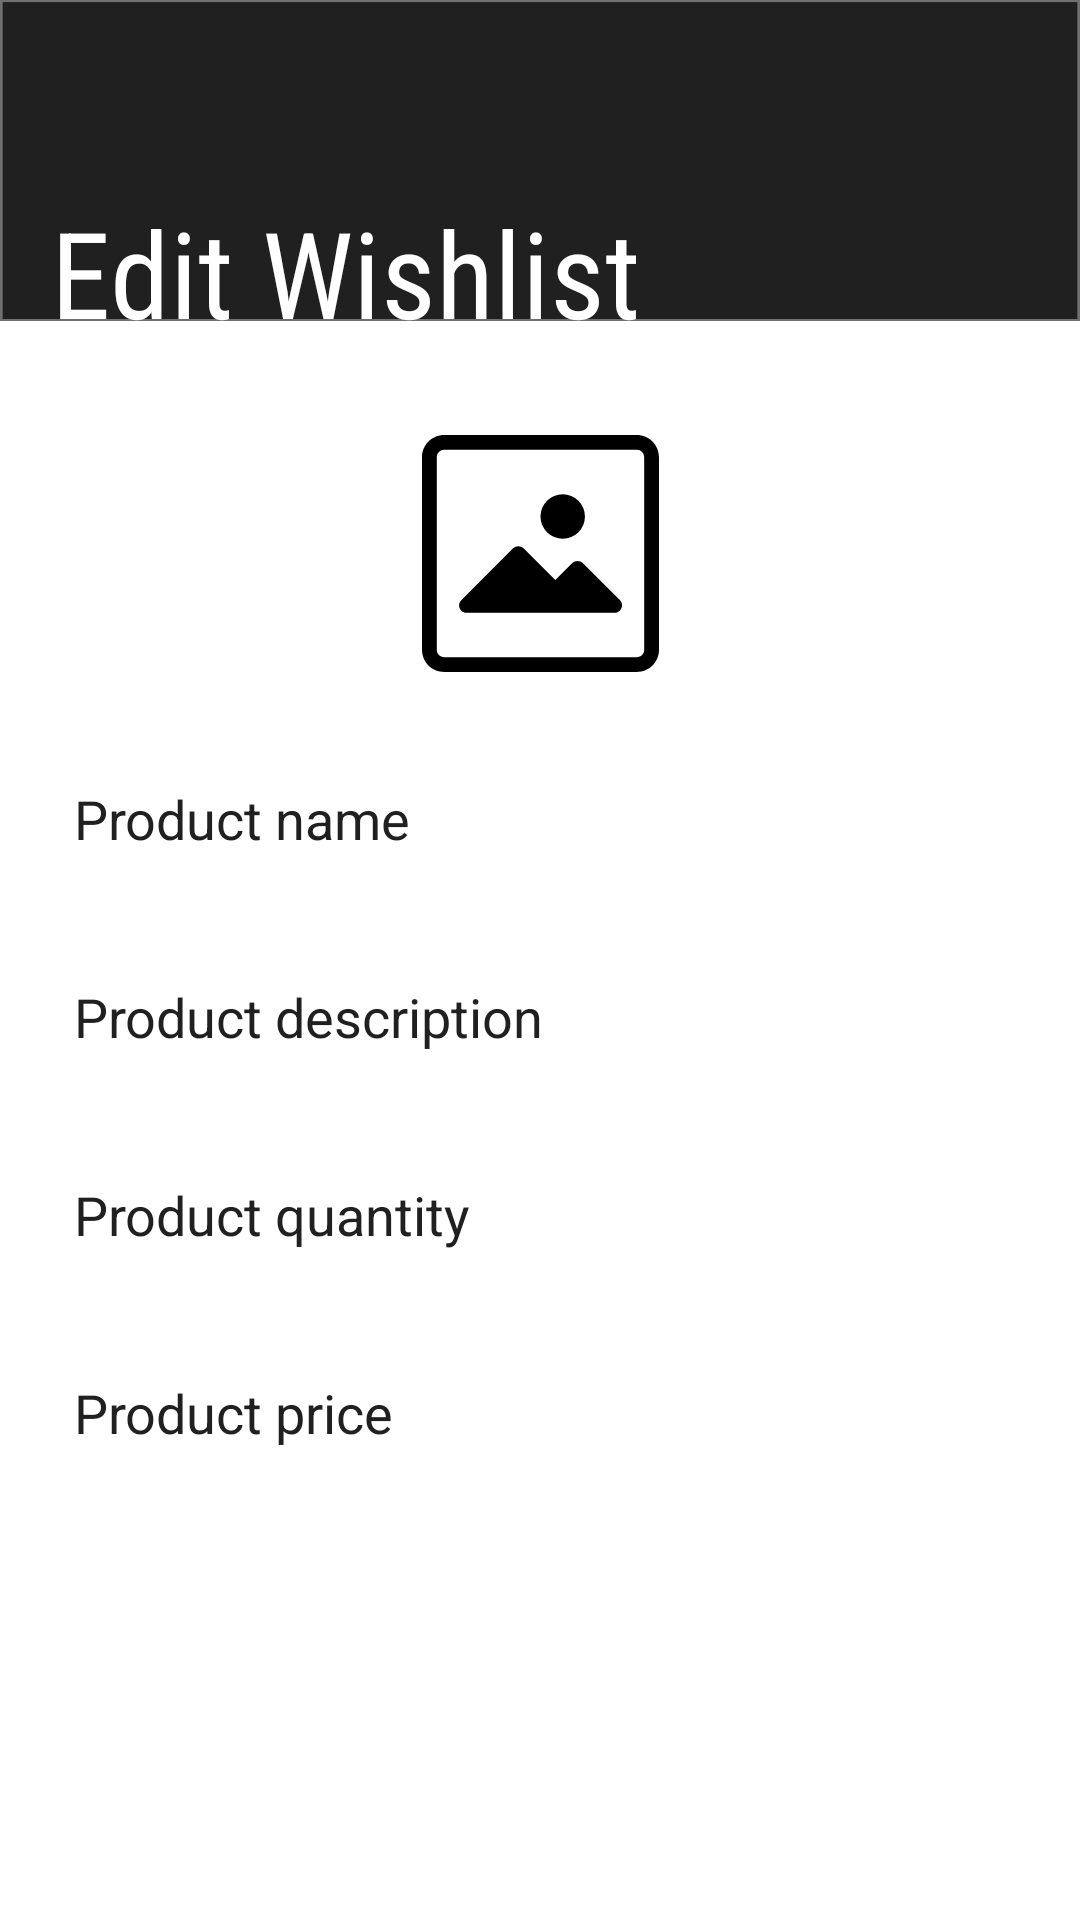

Where icons sit on this 1080x1920 app screen, as (x1, y1, x2, y2):
thumbnail: (422, 435, 659, 672)
